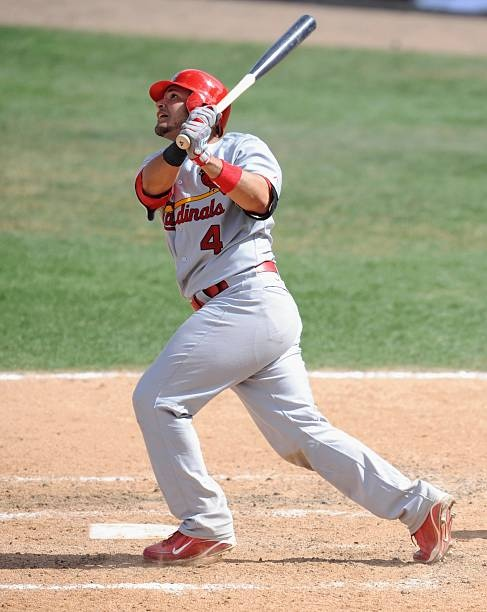bita: (181, 14, 315, 141)
